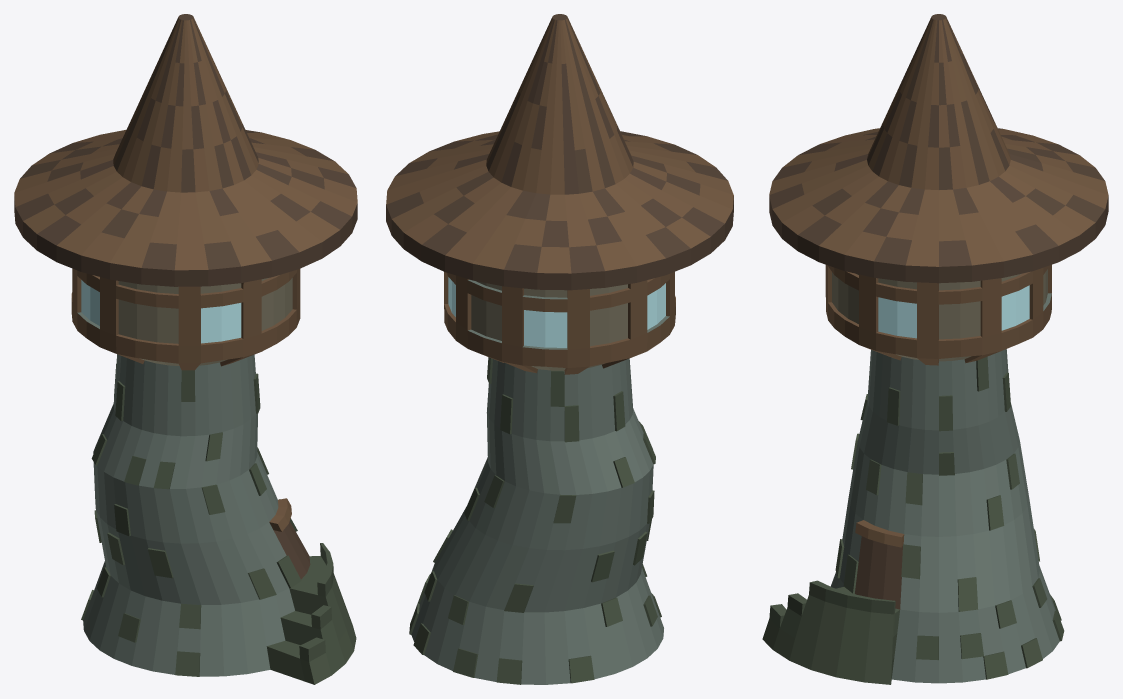
Rendered from WizardTower.fbx.
The picture shows the model from 3 angles, left to right: view 1: azimuth 30°, elevation 25°; view 2: azimuth 150°, elevation 25°; view 3: azimuth 270°, elevation 25°; orthographic projection. The views are drawn at different scales.
Visible parts, largest first — view 1: WizTower; view 2: WizTower; view 3: WizTower.
Boxes of the visible parts, left/top/right/bottom form: WizTower: left=14, top=14, right=357, bottom=684; WizTower: left=386, top=14, right=733, bottom=684; WizTower: left=762, top=14, right=1108, bottom=684.
Size of the model in its own units: 375 by 736 by 383.
